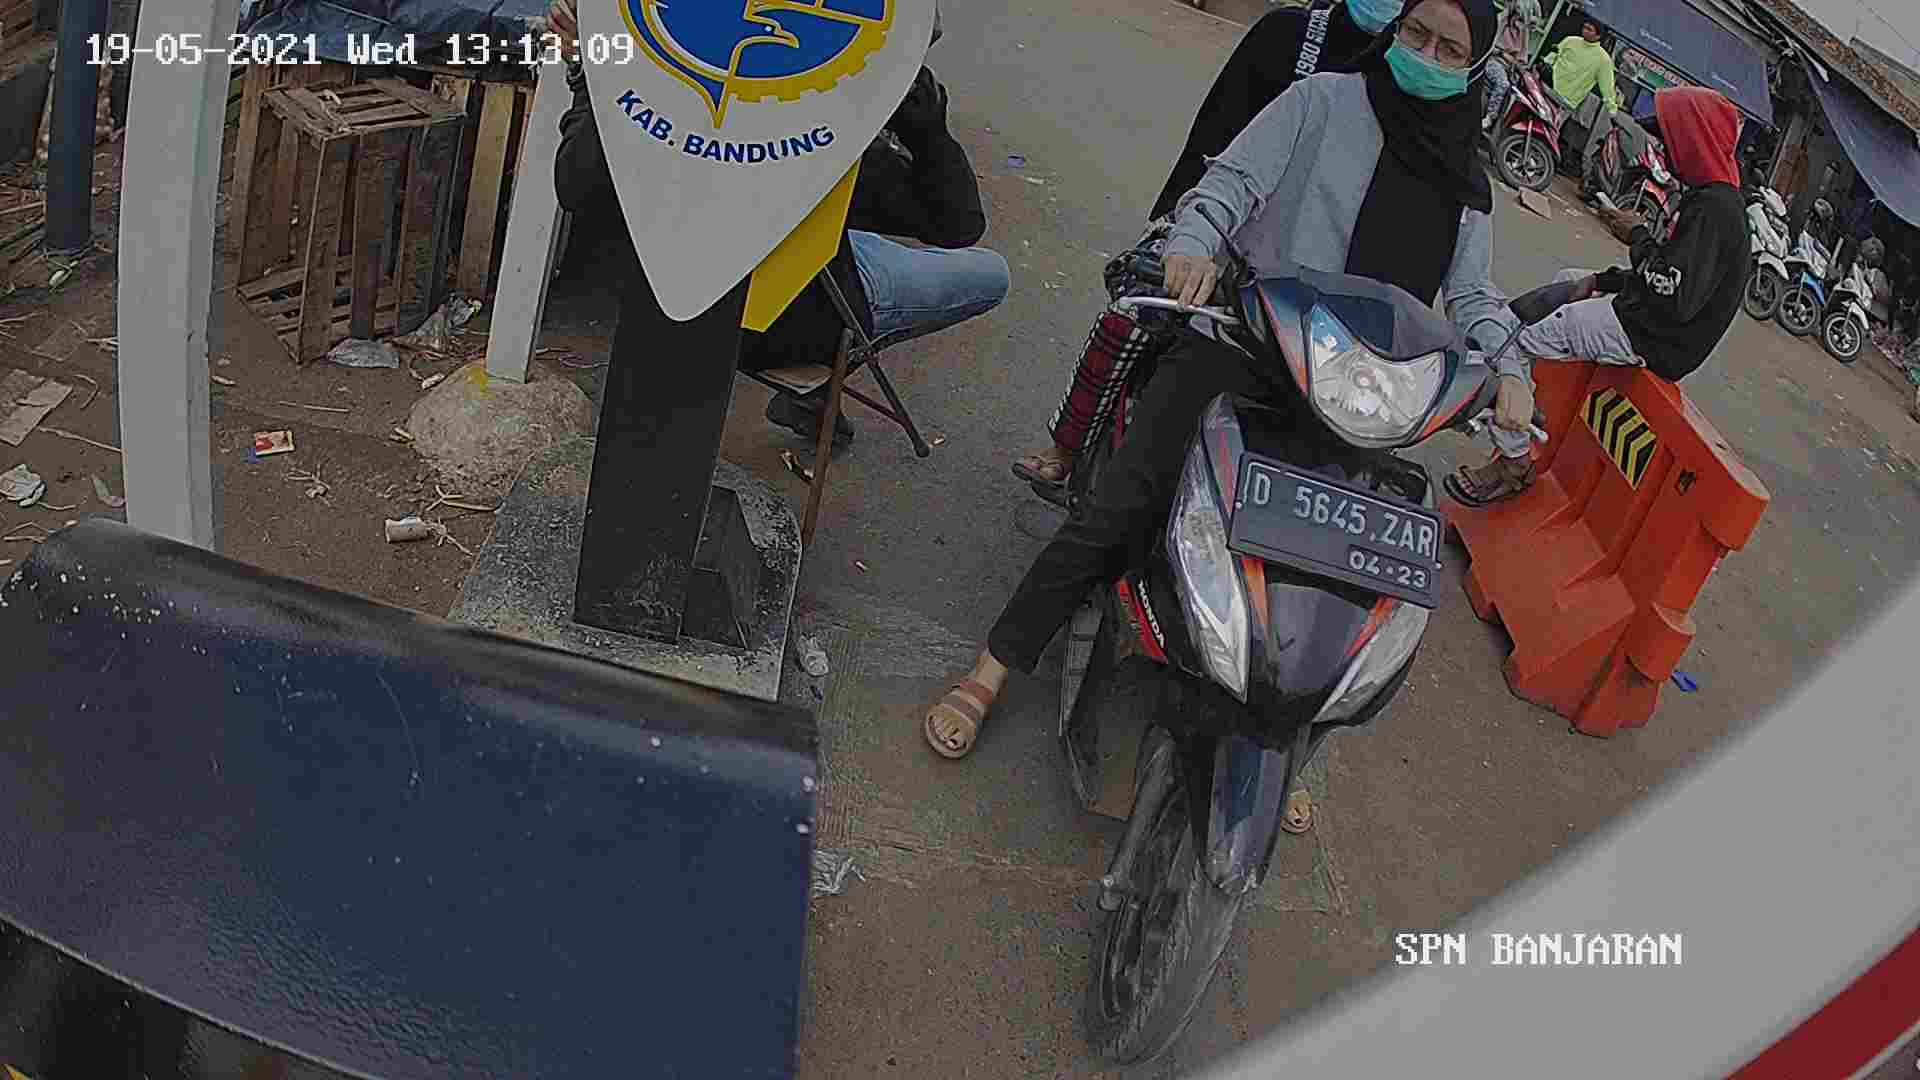motor: (1011, 215, 1429, 1050)
